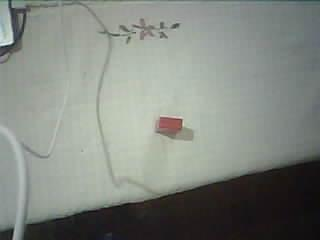lego: (152, 117, 183, 133)
